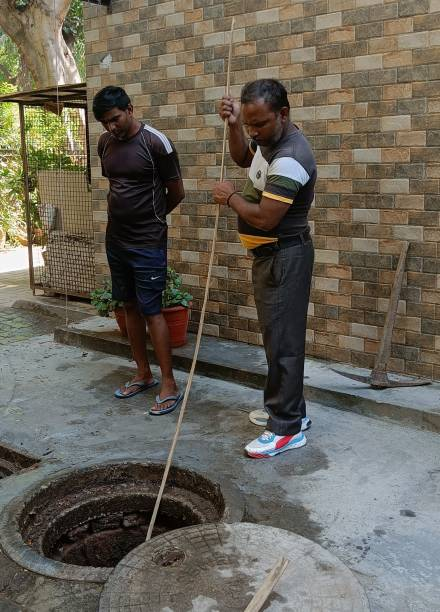open_manhole: (24, 453, 237, 576)
